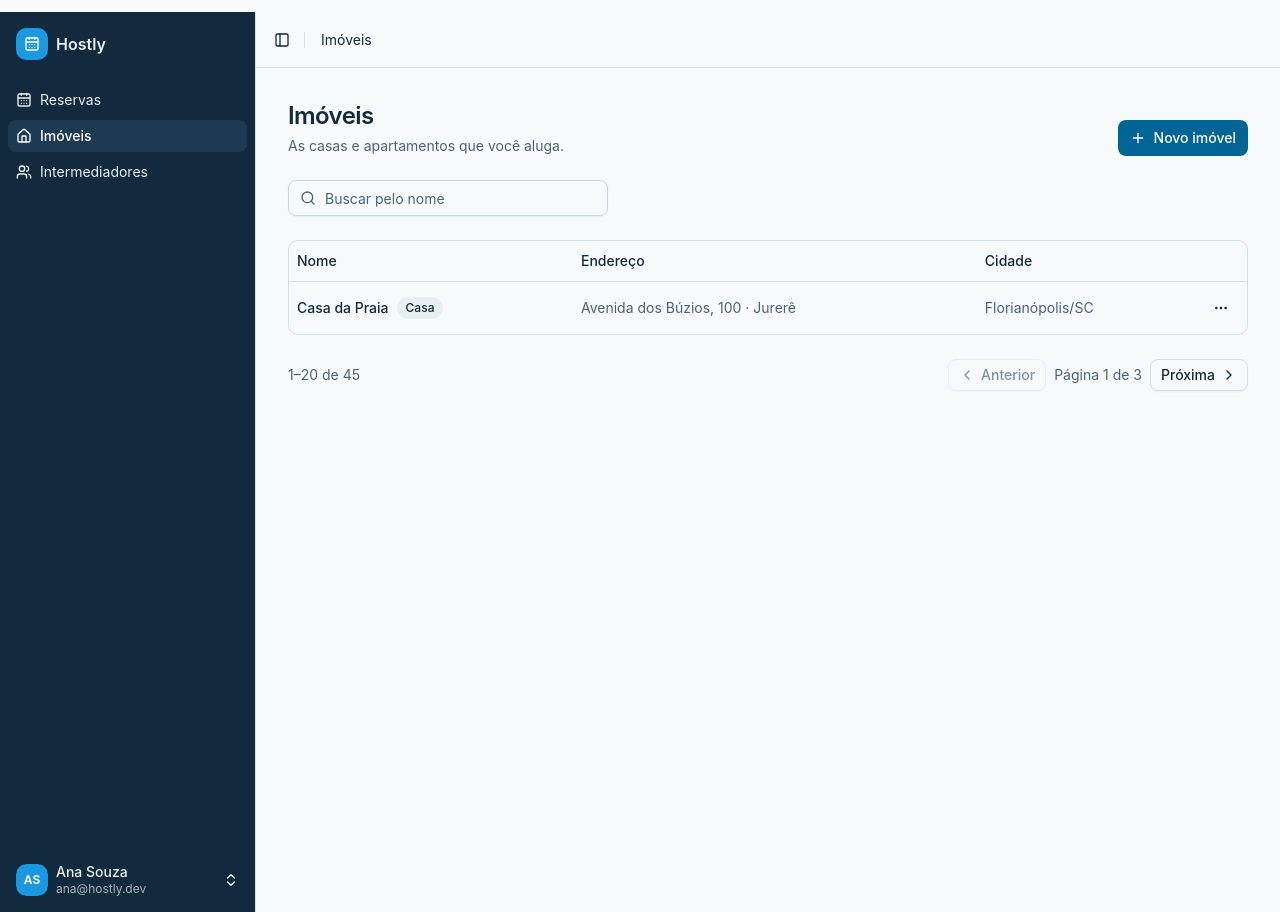
properties list › pages through the URL
This screenshot has width=1280, height=912.
Check: the heading "Imóveis" is shown, box [288,101,374,130]
Click the button "Próxima" at (1199, 374), box [1150,358,1248,390]
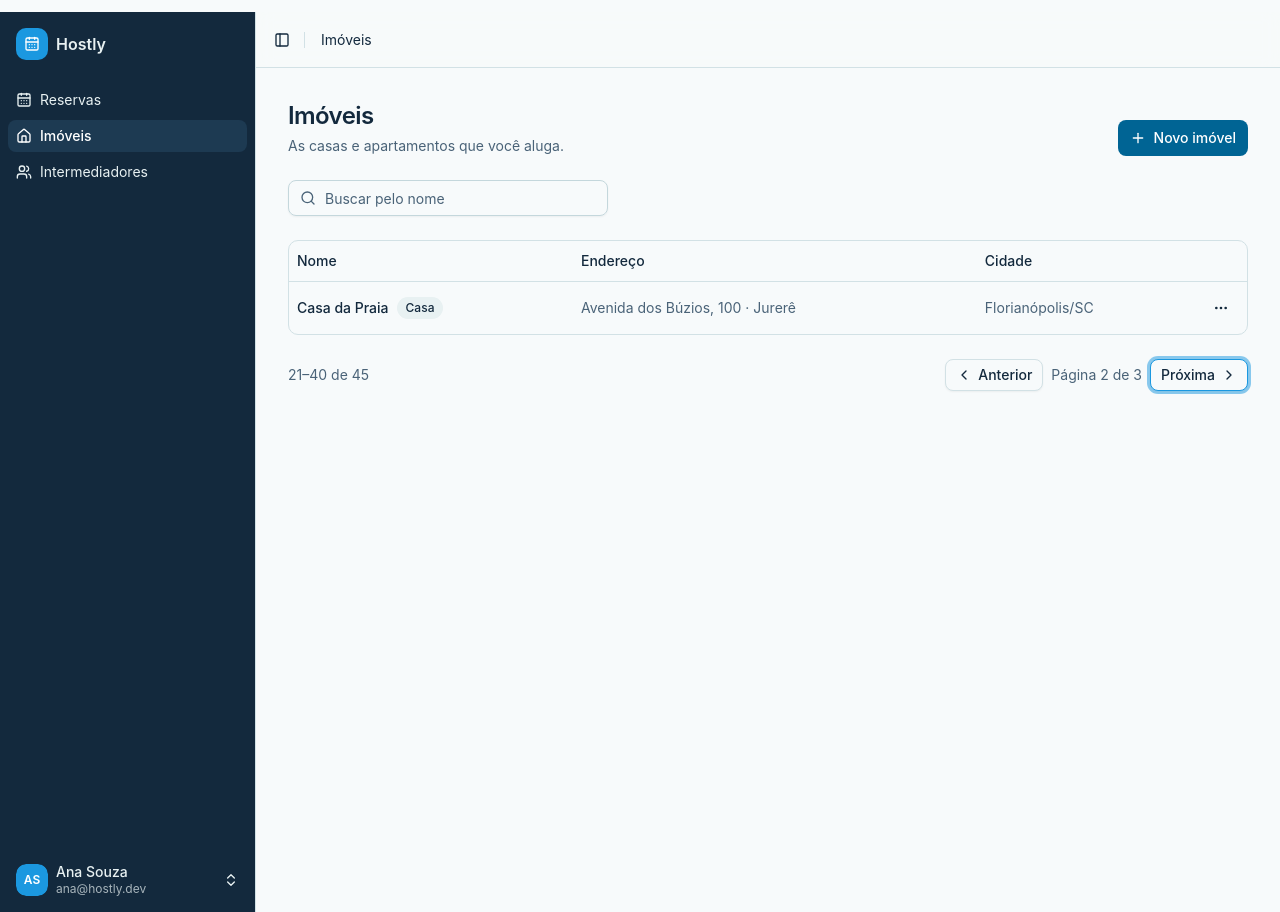
Check: the text "Página 2 de 3" is shown, box [1051,364,1142,384]
